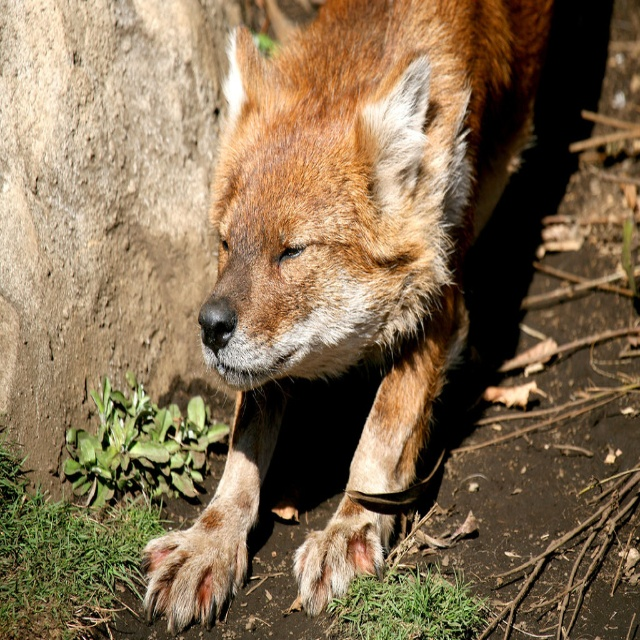Fox: (137, 0, 553, 639)
